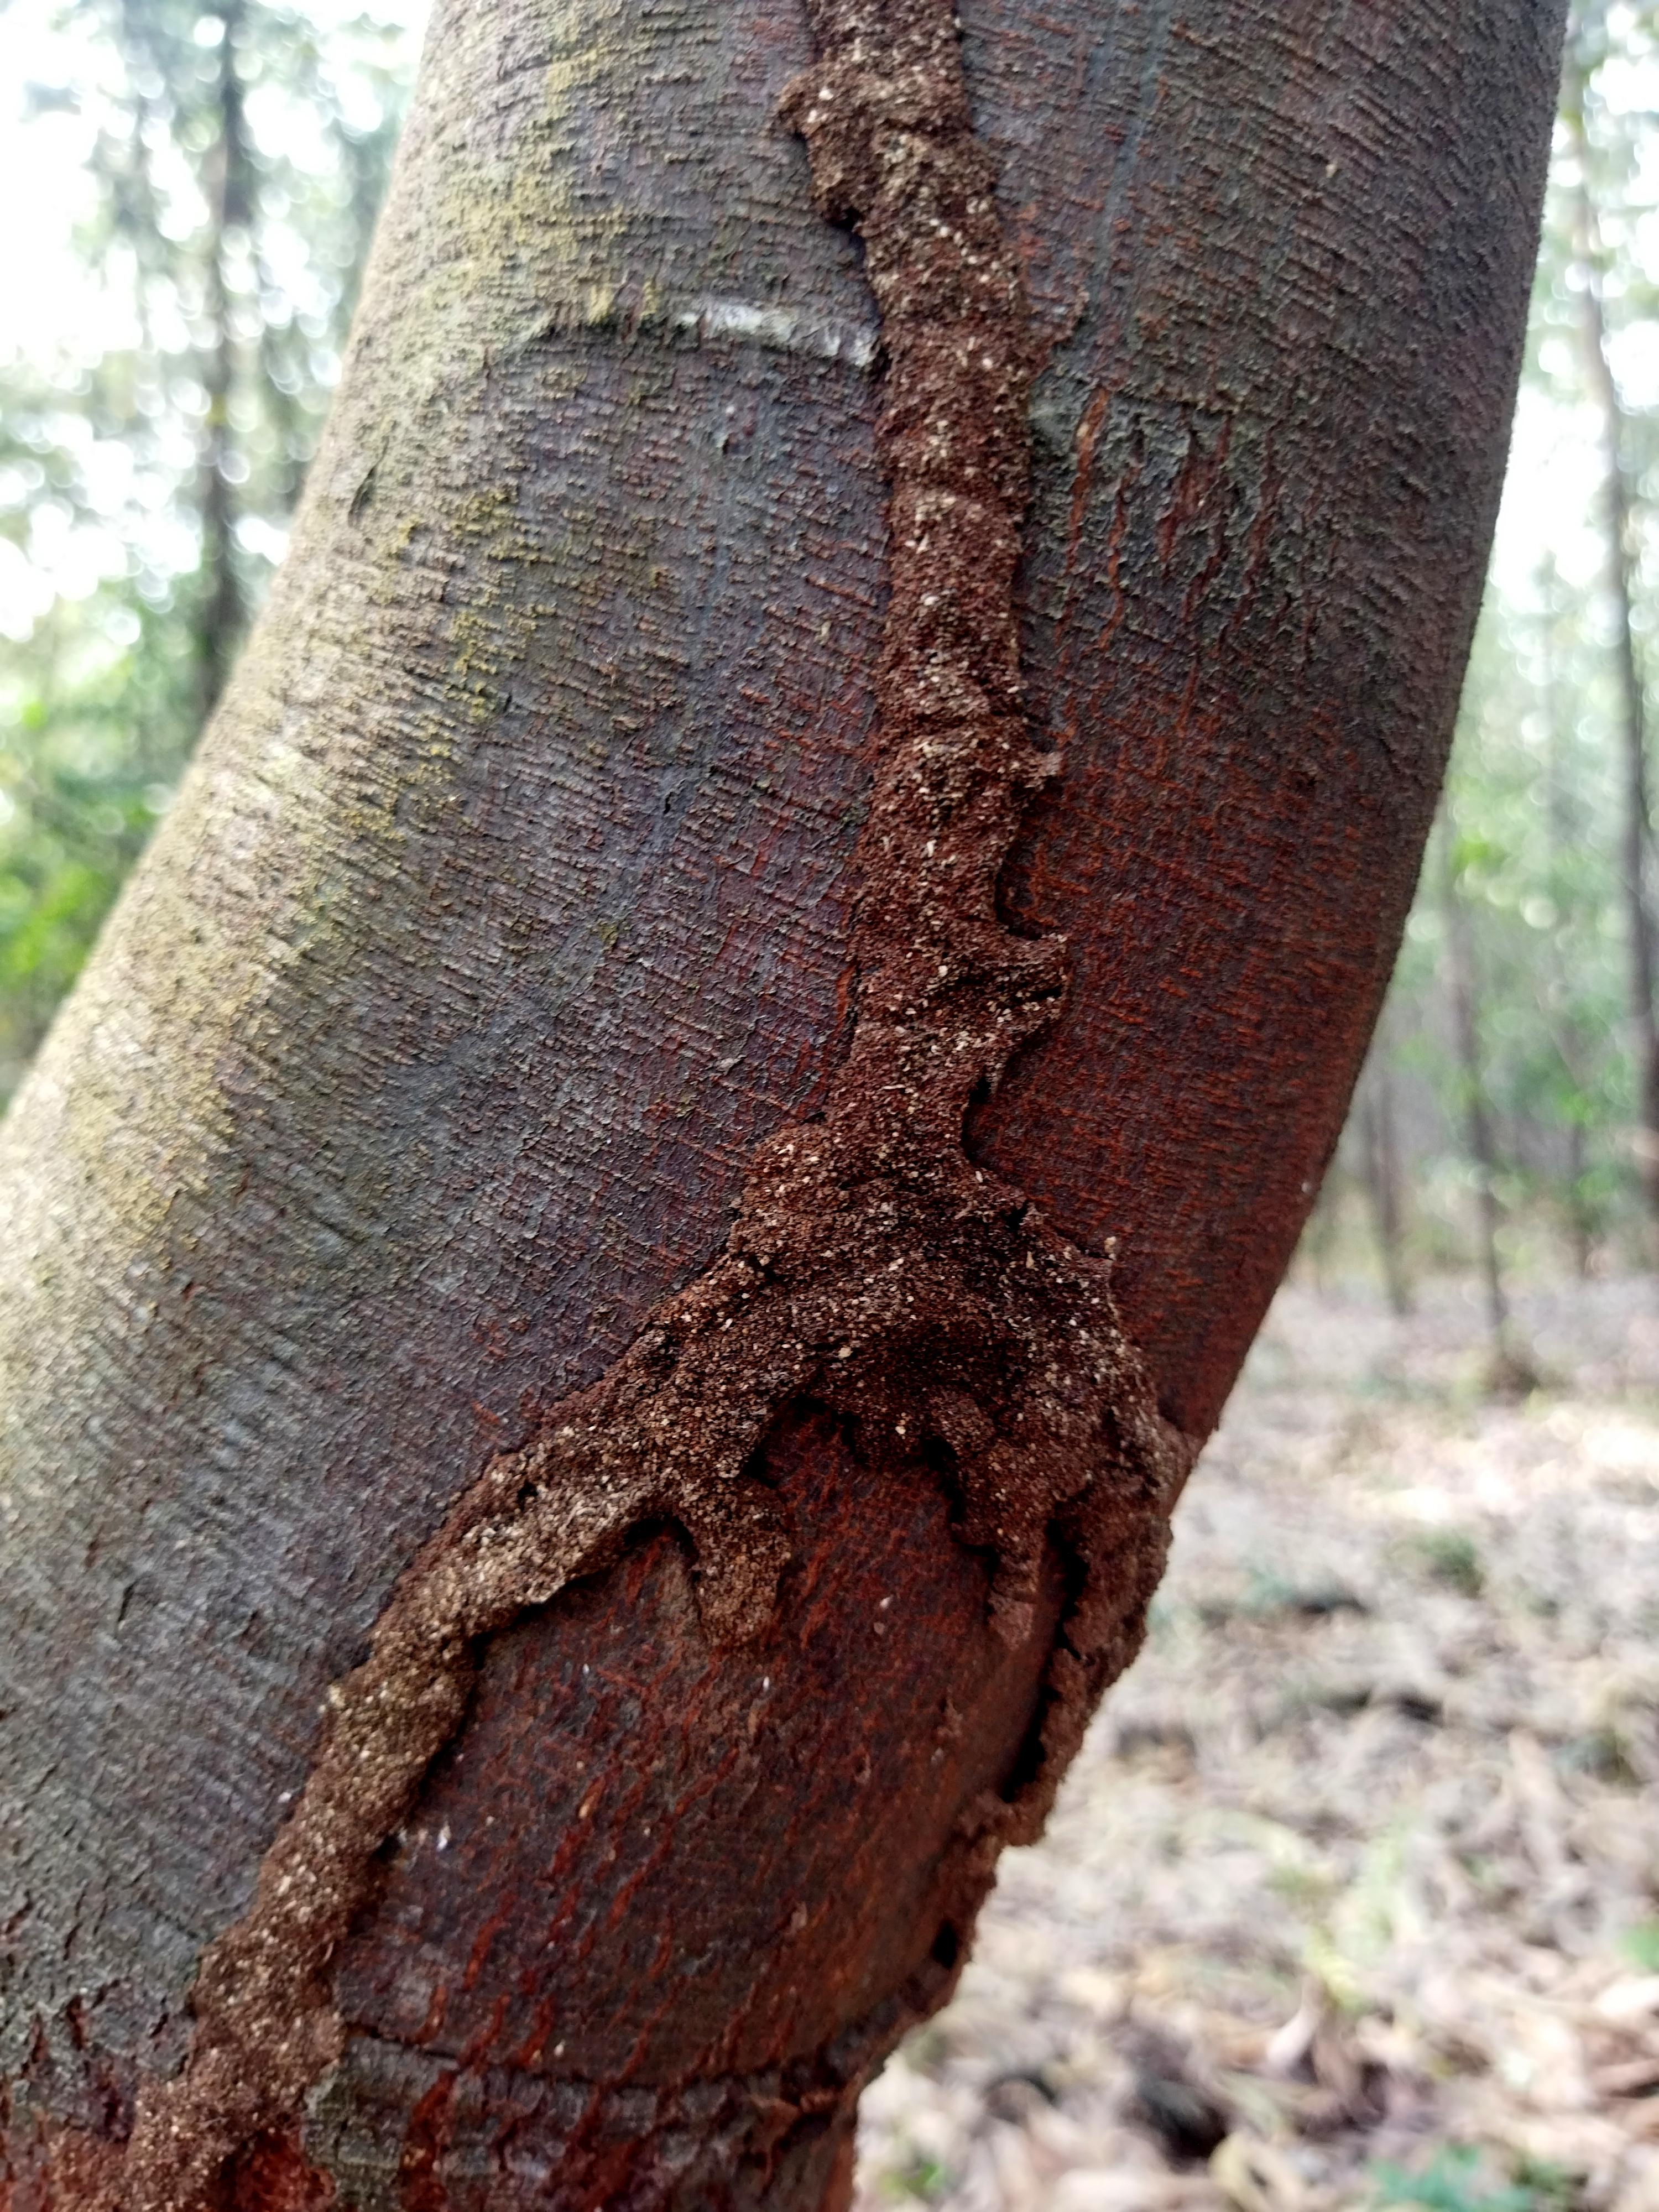Termite - Nest: (122, 0, 1213, 2212)
